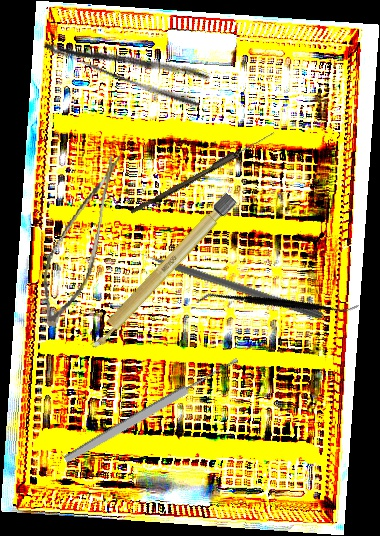Dressing Forceps: (41, 14, 212, 111)
Micro Scissor: (36, 143, 121, 333)
Pusher: (122, 242, 326, 321)
Scalpel Handle: (86, 191, 238, 353)
Spatula Surgical: (195, 235, 360, 373)
Surgical Spoon: (62, 355, 241, 465), (129, 128, 277, 218)
